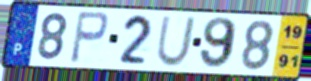2: (116, 13, 155, 68)
8: (241, 19, 276, 73), (35, 11, 68, 62)
9: (199, 16, 242, 72)
P: (67, 9, 110, 65)
U: (154, 14, 198, 68)
